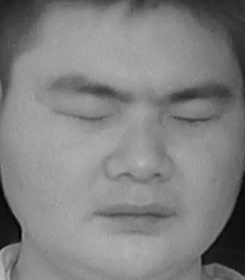blink: (57, 101, 110, 130), (172, 107, 222, 135)
mouth: (91, 194, 179, 239)
